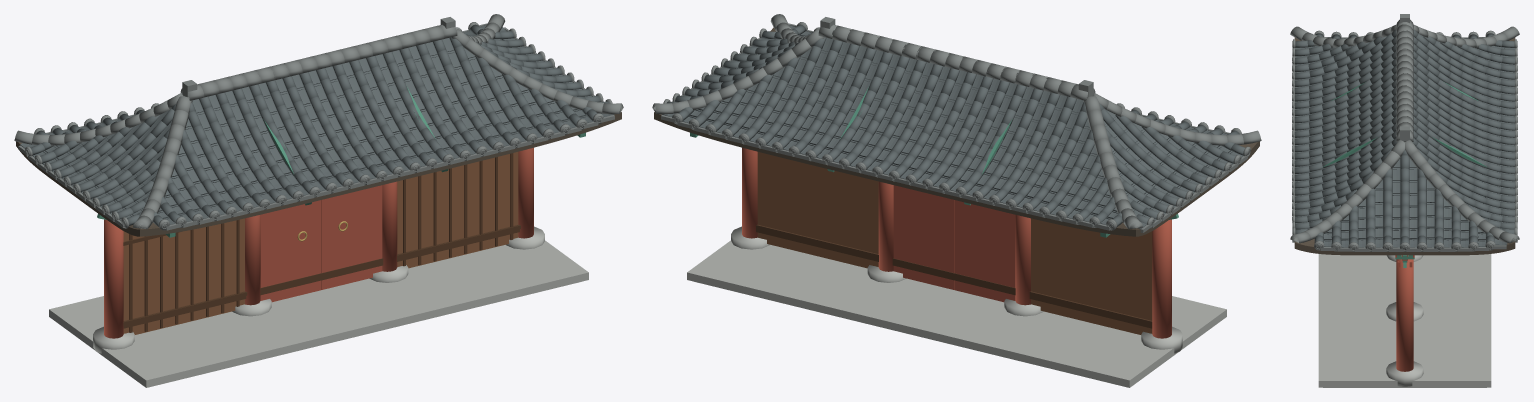
Rendered from Gwana_Sammun.fbx.
3 views of the same model, side by side, from view 1: azimuth 30°, elevation 25°; view 2: azimuth 150°, elevation 25°; view 3: azimuth 270°, elevation 25° (orthographic). The views are drawn at different scales.
Visible parts, largest first — view 1: GW_Gwana_Sammun_Individual_Sukiwa, GW_Gwana_Sammun_Gate_Doors, GW_Gwana_Sammun_Stone_Foundation, GW_Gwana_Sammun_Individual_Amkiwa, GW_Gwana_Sammun_Segmented_Ridge, GW_Gwana_Sammun_Gate_Frame, GW_Gwana_Sammun_Individual_Wadang, GW_Gwana_Sammun_Roof_Shell; view 2: GW_Gwana_Sammun_Individual_Sukiwa, GW_Gwana_Sammun_Gate_Doors, GW_Gwana_Sammun_Stone_Foundation, GW_Gwana_Sammun_Individual_Amkiwa, GW_Gwana_Sammun_Gate_Frame, GW_Gwana_Sammun_Segmented_Ridge, GW_Gwana_Sammun_Individual_Wadang, GW_Gwana_Sammun_Roof_Shell; view 3: GW_Gwana_Sammun_Individual_Sukiwa, GW_Gwana_Sammun_Stone_Foundation, GW_Gwana_Sammun_Individual_Amkiwa, GW_Gwana_Sammun_Segmented_Ridge, GW_Gwana_Sammun_Gate_Frame, GW_Gwana_Sammun_Individual_Wadang, GW_Gwana_Sammun_Roof_Shell, GW_Gwana_Sammun_Roof_Trusses.
Part boxes in pixels (x1=…): GW_Gwana_Sammun_Individual_Sukiwa: x1=30, y1=24, x2=608, y2=226; GW_Gwana_Sammun_Gate_Doors: x1=123, y1=152, x2=520, y2=334; GW_Gwana_Sammun_Stone_Foundation: x1=49, y1=240, x2=588, y2=387; GW_Gwana_Sammun_Individual_Amkiwa: x1=18, y1=23, x2=614, y2=230; GW_Gwana_Sammun_Segmented_Ridge: x1=14, y1=14, x2=623, y2=229; GW_Gwana_Sammun_Gate_Frame: x1=93, y1=147, x2=544, y2=353; GW_Gwana_Sammun_Individual_Wadang: x1=25, y1=22, x2=612, y2=230; GW_Gwana_Sammun_Roof_Shell: x1=16, y1=112, x2=621, y2=236; GW_Gwana_Sammun_Individual_Sukiwa: x1=667, y1=24, x2=1245, y2=226; GW_Gwana_Sammun_Gate_Doors: x1=757, y1=152, x2=1152, y2=334; GW_Gwana_Sammun_Stone_Foundation: x1=687, y1=240, x2=1226, y2=387; GW_Gwana_Sammun_Individual_Amkiwa: x1=661, y1=23, x2=1247, y2=232; GW_Gwana_Sammun_Gate_Frame: x1=731, y1=147, x2=1182, y2=353; GW_Gwana_Sammun_Segmented_Ridge: x1=652, y1=14, x2=1261, y2=229; GW_Gwana_Sammun_Individual_Wadang: x1=663, y1=22, x2=1250, y2=230; GW_Gwana_Sammun_Roof_Shell: x1=654, y1=27, x2=1259, y2=236; GW_Gwana_Sammun_Individual_Sukiwa: x1=1294, y1=30, x2=1515, y2=244; GW_Gwana_Sammun_Stone_Foundation: x1=1318, y1=254, x2=1491, y2=387; GW_Gwana_Sammun_Individual_Amkiwa: x1=1292, y1=35, x2=1517, y2=251; GW_Gwana_Sammun_Segmented_Ridge: x1=1290, y1=14, x2=1519, y2=243; GW_Gwana_Sammun_Gate_Frame: x1=1386, y1=255, x2=1423, y2=386; GW_Gwana_Sammun_Individual_Wadang: x1=1292, y1=30, x2=1517, y2=251; GW_Gwana_Sammun_Roof_Shell: x1=1294, y1=37, x2=1515, y2=255; GW_Gwana_Sammun_Roof_Trusses: x1=1322, y1=82, x2=1487, y2=167.
Size of what is drawn, in the model's own units: 10.29 by 4.99 by 4.69.
